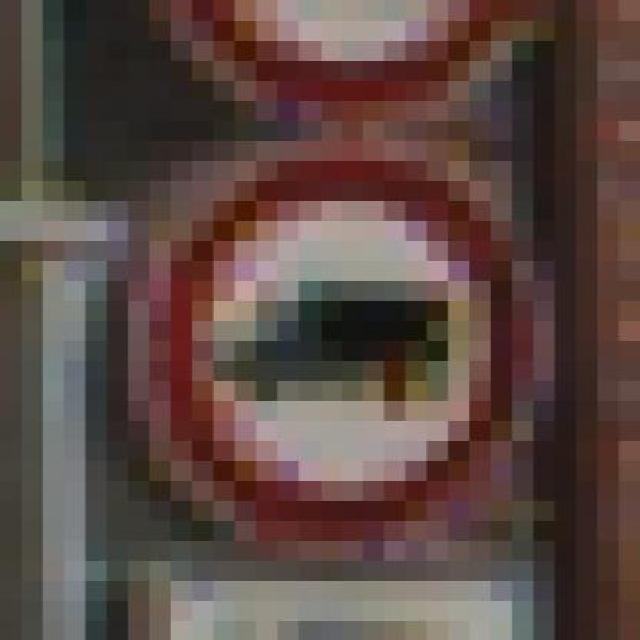Truck traffic is prohibited: (55, 125, 567, 564)
